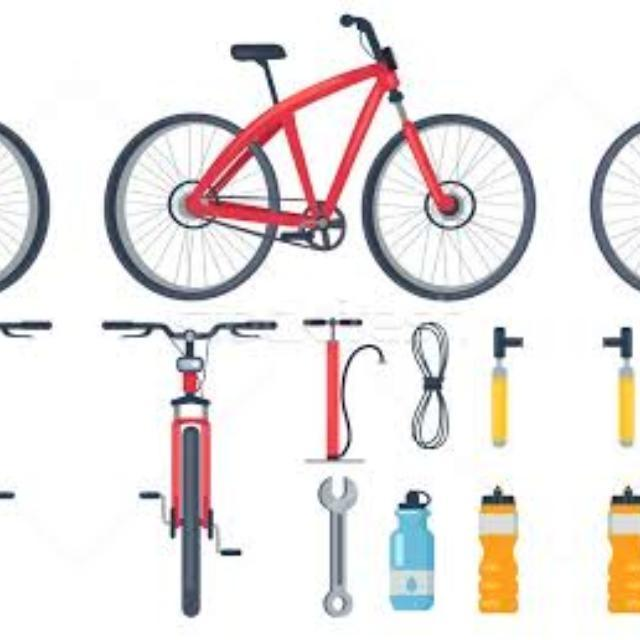obstacle: (95, 10, 549, 314), (576, 10, 640, 313), (0, 10, 57, 313)
